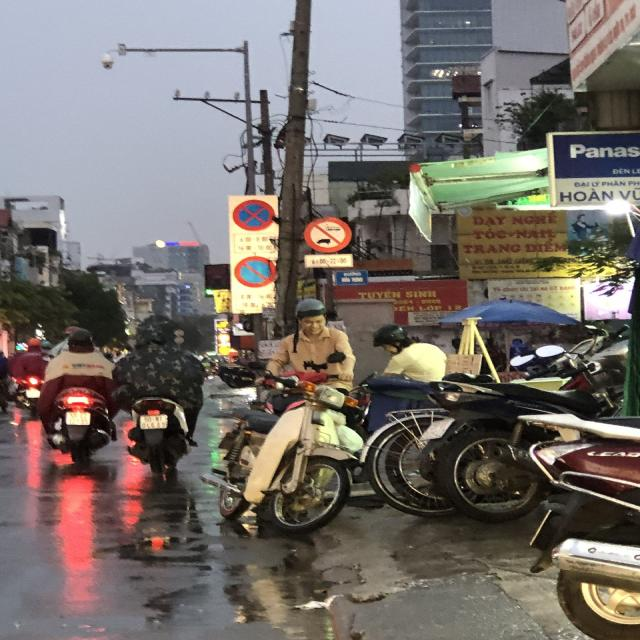Bien bao cam dung xe va do xe: (230, 197, 277, 233)
Bien bao cam xe oto khach va xe oto tai: (301, 212, 354, 254)
